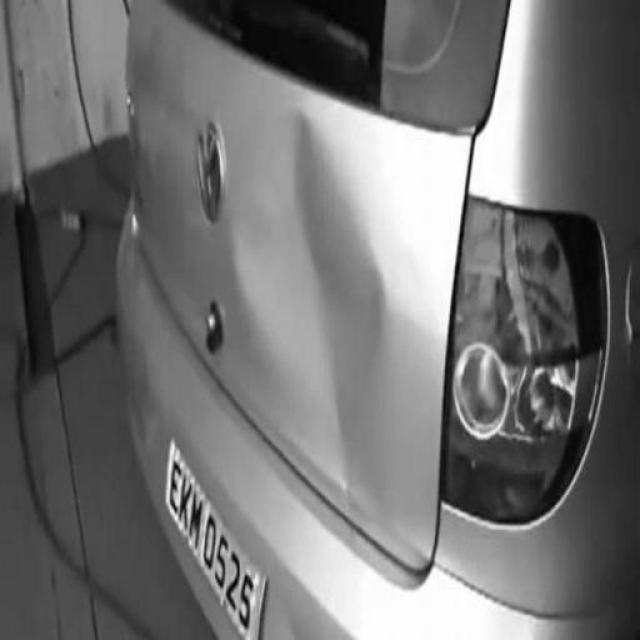dent: (230, 125, 390, 513)
